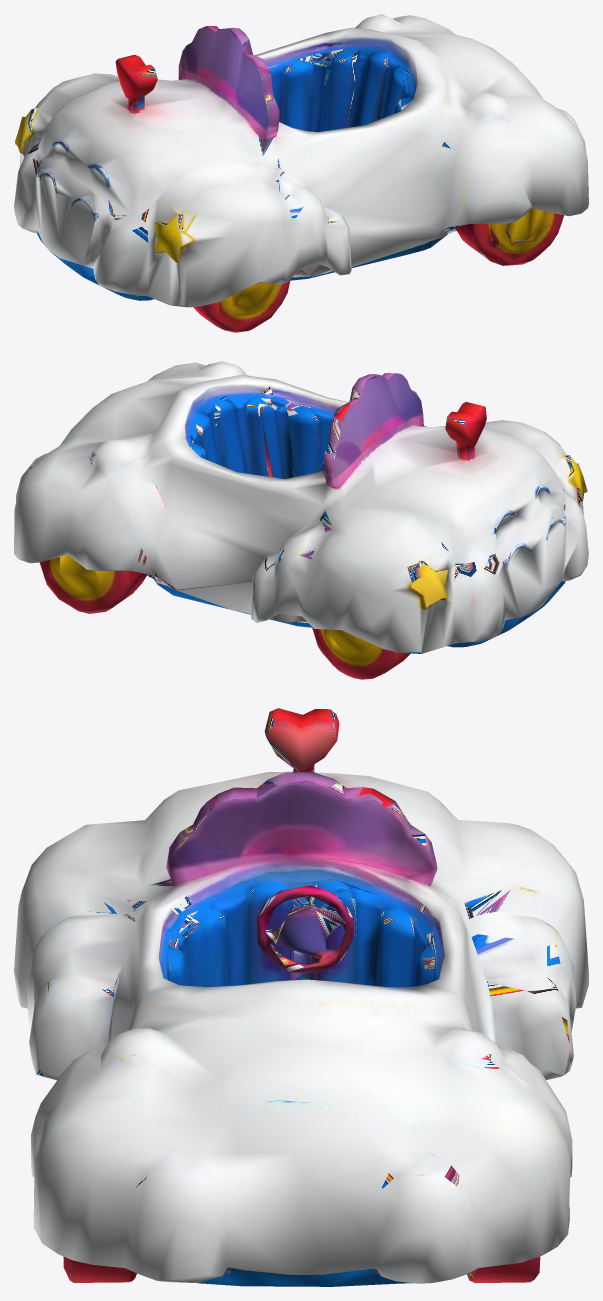
Rendered from car.glb.
3 renders of one model, top to bottom at view 1: azimuth 30°, elevation 25°; view 2: azimuth 150°, elevation 25°; view 3: azimuth 270°, elevation 25°, orthographic. The views are drawn at different scales.
Size of the model in its own units: 1.99 by 0.9158 by 1.37.
1 material, 1 textured.
